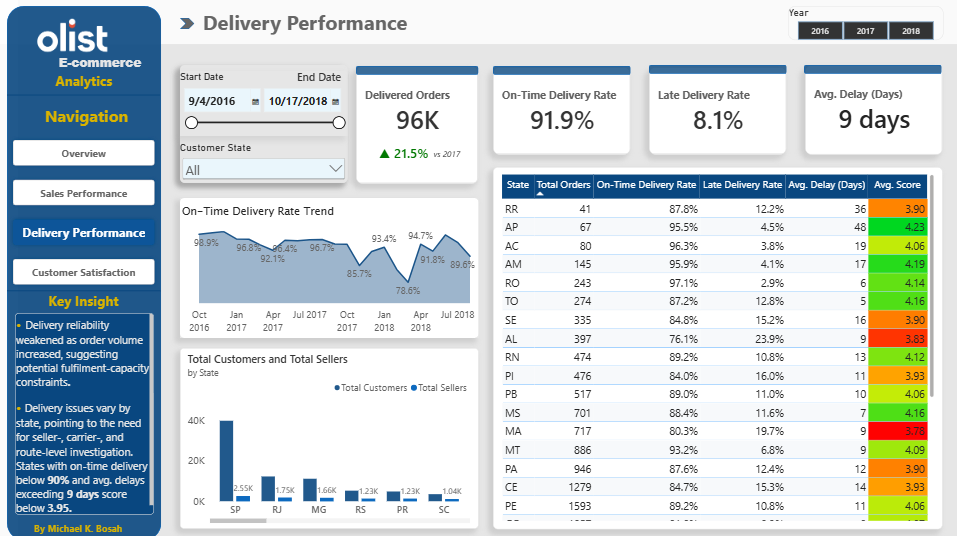

What the dashboard file says about the page in this screenshot:
{"tool":"powerbi","page":{"name":"Delivery Performance","canvas":[1920,1080],"ordinal":2},"visuals":[{"type":"shape","box":[364.4,399.5,594.9,278.8],"z":0},{"type":"shape","box":[0,0,41.7,1080],"z":1000},{"type":"shape","box":[364.4,133.9,333.7,234.9],"z":2000},{"type":"shape","title":"Delivery Performance","box":[0,0,1920,92.2],"z":3000},{"type":"shape","box":[19.8,15.4,307.3,1064.6],"z":4000},{"type":"tableEx","fields":{"Values":["vw_olist_analysis.customer_state","vw_olist_analysis.Delivered Orders","vw_olist_analysis.On-Time Delivery Rate","vw_olist_analysis.Late Delivery Rate","vw_olist_analysis.Average Delay Days","Avg(vw_olist_analysis.review_score)"]},"box":[987.8,335.9,895.6,722.2],"z":5000},{"type":"lineChart","title":"On-Time Delivery Rate Trend","fields":{"Category":["vw_olist_analysis.order_date.Variation.Date Hierarchy.Year","vw_olist_analysis.order_date.Variation.Date Hierarchy.Month"],"Y":["vw_olist_analysis.On-Time Delivery Rate"]},"box":[368.8,401.7,608,276.6],"z":6000},{"type":"cardVisual","fields":{"Data":["vw_olist_analysis.Delivered Orders"]},"box":[715.6,136.1,243.7,234.9],"z":7000},{"type":"cardVisual","fields":{"Data":["vw_olist_analysis.On-Time Delivery Rate"]},"box":[987.4,137.1,274.3,174.5],"z":8000},{"type":"cardVisual","fields":{"Data":["vw_olist_analysis.Late Delivery Rate"]},"box":[1299.1,137.1,274.3,174.5],"z":9000},{"type":"cardVisual","fields":{"Data":["vw_olist_analysis.Average Delay Days"]},"box":[1610,133.5,275,179.3],"z":10000},{"type":"slicer","title":"Start Date","fields":{"Values":["vw_olist_analysis.order_date"]},"box":[364.4,144.9,333.7,129.5],"z":11000},{"type":"slicer","title":"Customer State","fields":{"Values":["vw_olist_analysis.customer_state"]},"box":[364.4,285.4,333.7,98.8],"z":12000},{"type":"shape","box":[715.6,136.1,243.7,17.6],"z":13000},{"type":"shape","box":[987.8,136.1,274.4,17.6],"z":14000},{"type":"shape","box":[1299.5,133.9,274.4,17.6],"z":15000},{"type":"shape","box":[1609,133.9,274.4,17.6],"z":16000},{"type":"shape","box":[364.4,39.5,28.5,22],"z":17000},{"type":"shape","box":[19.8,540,305.5,86.7],"z":18000},{"type":"shape","box":[19.8,52.7,305.1,283.2],"z":19000},{"type":"textbox","box":[597.1,140.5,131.7,83.4],"z":20000},{"type":"textbox","box":[19.8,583.9,305.1,43.9],"z":21000},{"type":"textbox","box":[28.5,210.7,300.7,61.5],"z":22000},{"type":"textbox","box":[74.6,112,263.4,41.7],"z":23000},{"type":"cardVisual","fields":{"Data":["customer_satisfaction.Delivered Order Growth Indicator"]},"box":[698,265.6,179.6,86.7],"z":24000},{"type":"slicer","title":"Year","fields":{"Values":["vw_olist_analysis.order_date.Variation.Date Hierarchy.Year"]},"box":[1576.1,15.4,309.5,68],"z":25000},{"type":"textbox","box":[761.7,298.5,265.6,85.6],"z":26000},{"type":"clusteredColumnChart","title":"Total Customers and Total Sellers","fields":{"Category":["vw_olist_analysis.customer_state"],"Y":["customer_satisfaction.Total Customers","customer_satisfaction.Total Sellers"]},"box":[364.4,698,594.9,360],"z":27000},{"type":"textbox","box":[35.1,627.8,276.6,401.7],"z":28000},{"type":"textbox","box":[74.6,1044.9,299.4,26.8],"z":29000},{"type":"pageNavigator","box":[24.1,274.4,298.5,305.1],"z":30000},{"type":"image","box":[0,0,304.8,155.5],"z":31000},{"type":"textbox","box":[24.1,144.9,298.5,61.5],"z":32000}]}

Visuals, with their boxes in screenshot pixels (x1, y1, x2, y2), scaled from the page's 1920x1080 canvas onto the 957x536 screenshot:
shape: [x1=182, y1=198, x2=478, y2=337]
shape: [x1=0, y1=0, x2=21, y2=535]
shape: [x1=182, y1=66, x2=348, y2=183]
"Delivery Performance" shape: [x1=0, y1=0, x2=956, y2=46]
shape: [x1=10, y1=8, x2=163, y2=535]
tableEx - vw_olist_analysis.customer_state x vw_olist_analysis.Delivered Orders: [x1=492, y1=167, x2=939, y2=525]
"On-Time Delivery Rate Trend" lineChart: [x1=184, y1=199, x2=487, y2=337]
cardVisual - vw_olist_analysis.Delivered Orders: [x1=357, y1=68, x2=478, y2=184]
cardVisual - vw_olist_analysis.On-Time Delivery Rate: [x1=492, y1=68, x2=629, y2=155]
cardVisual - vw_olist_analysis.Late Delivery Rate: [x1=648, y1=68, x2=784, y2=155]
cardVisual - vw_olist_analysis.Average Delay Days: [x1=802, y1=66, x2=940, y2=155]
"Start Date" slicer: [x1=182, y1=72, x2=348, y2=136]
"Customer State" slicer: [x1=182, y1=142, x2=348, y2=191]
shape: [x1=357, y1=68, x2=478, y2=76]
shape: [x1=492, y1=68, x2=629, y2=76]
shape: [x1=648, y1=66, x2=784, y2=75]
shape: [x1=802, y1=66, x2=939, y2=75]
shape: [x1=182, y1=20, x2=196, y2=31]
shape: [x1=10, y1=268, x2=162, y2=311]
shape: [x1=10, y1=26, x2=162, y2=167]
textbox: [x1=298, y1=70, x2=363, y2=111]
textbox: [x1=10, y1=290, x2=162, y2=312]
textbox: [x1=14, y1=105, x2=164, y2=135]
textbox: [x1=37, y1=56, x2=168, y2=76]
cardVisual - customer_satisfaction.Delivered Order Growth Indicator: [x1=348, y1=132, x2=437, y2=175]
"Year" slicer: [x1=786, y1=8, x2=940, y2=41]
textbox: [x1=380, y1=148, x2=512, y2=191]
"Total Customers and Total Sellers" clusteredColumnChart: [x1=182, y1=346, x2=478, y2=525]
textbox: [x1=17, y1=312, x2=155, y2=511]
textbox: [x1=37, y1=519, x2=186, y2=532]
pageNavigator: [x1=12, y1=136, x2=161, y2=288]
image: [x1=0, y1=0, x2=152, y2=77]
textbox: [x1=12, y1=72, x2=161, y2=102]
